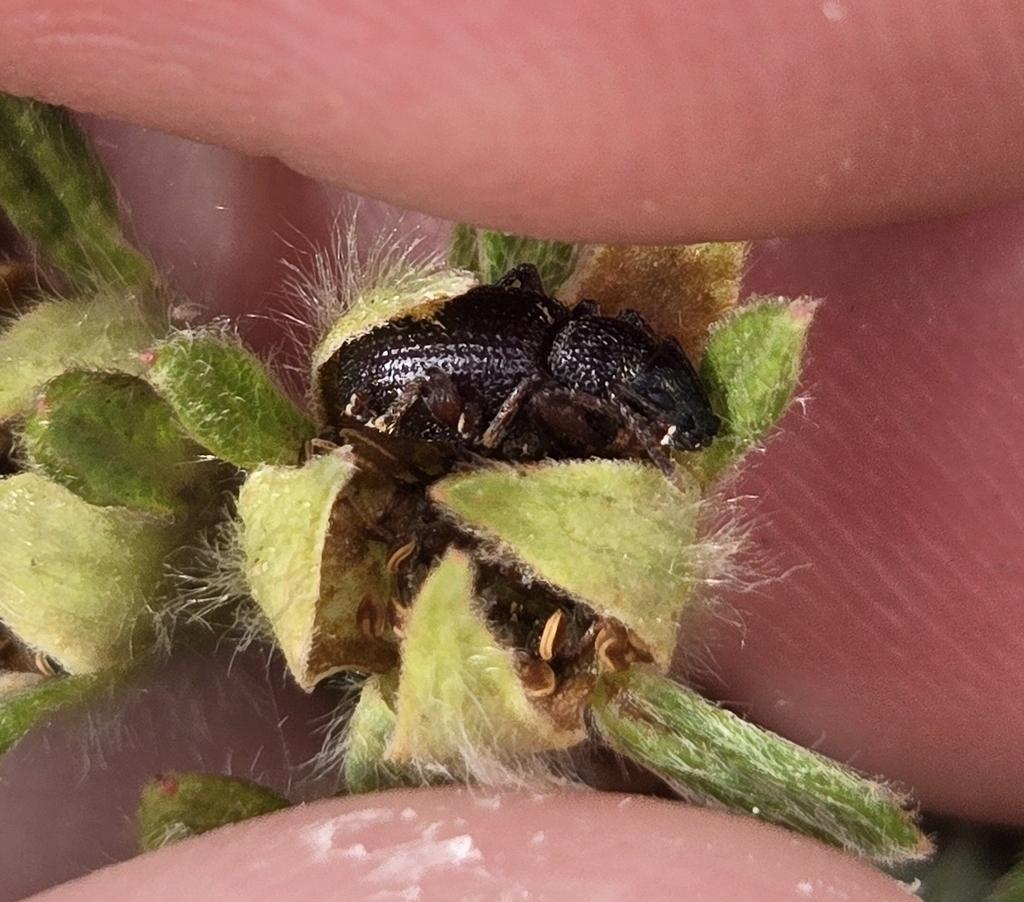weevils: (259, 204, 756, 531)
